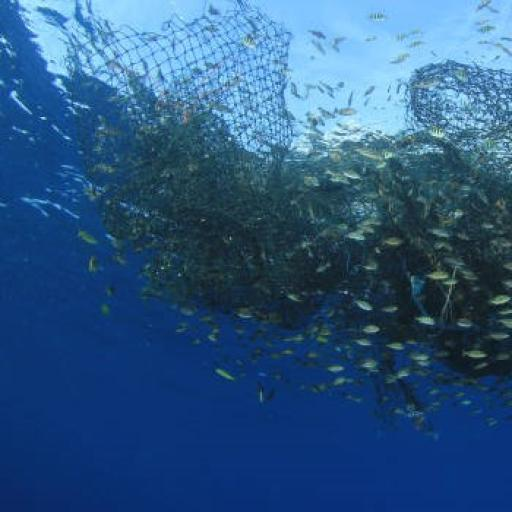net: (65, 0, 512, 431)
